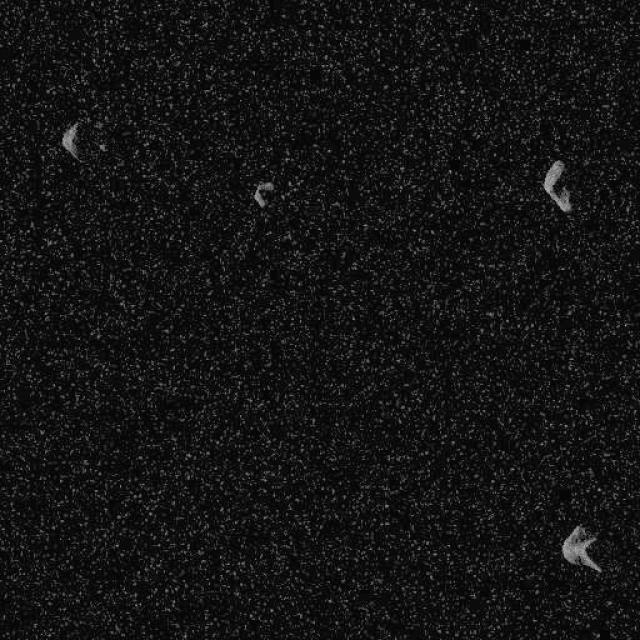D2: (560, 524, 602, 572), (542, 158, 572, 214), (60, 119, 84, 162), (253, 180, 275, 208)
